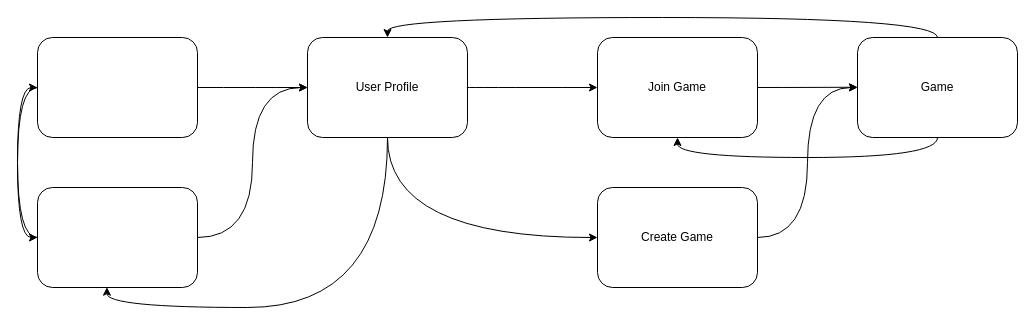
This 1035x325 diagram has some shape labels left out. Here are the shapes that lost their labels. From the top down, the box of each, then its label:
(36, 36, 198, 138): User Registration
(36, 186, 198, 288): User Login
